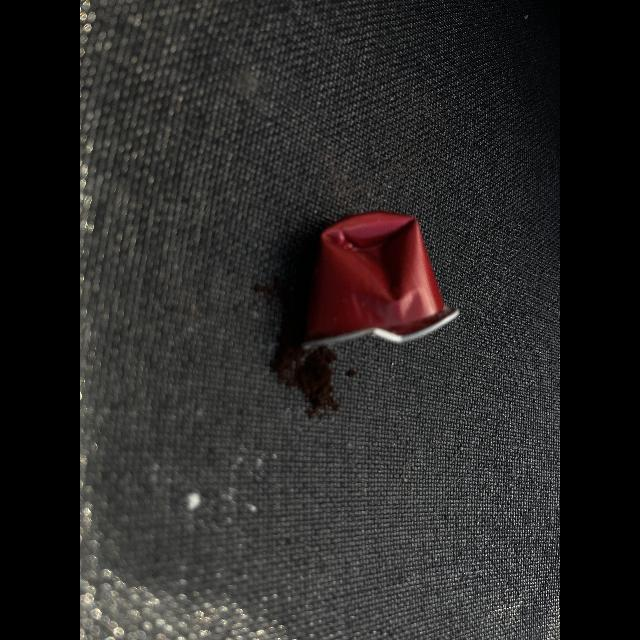damaged_capsule: (288, 199, 486, 389)
